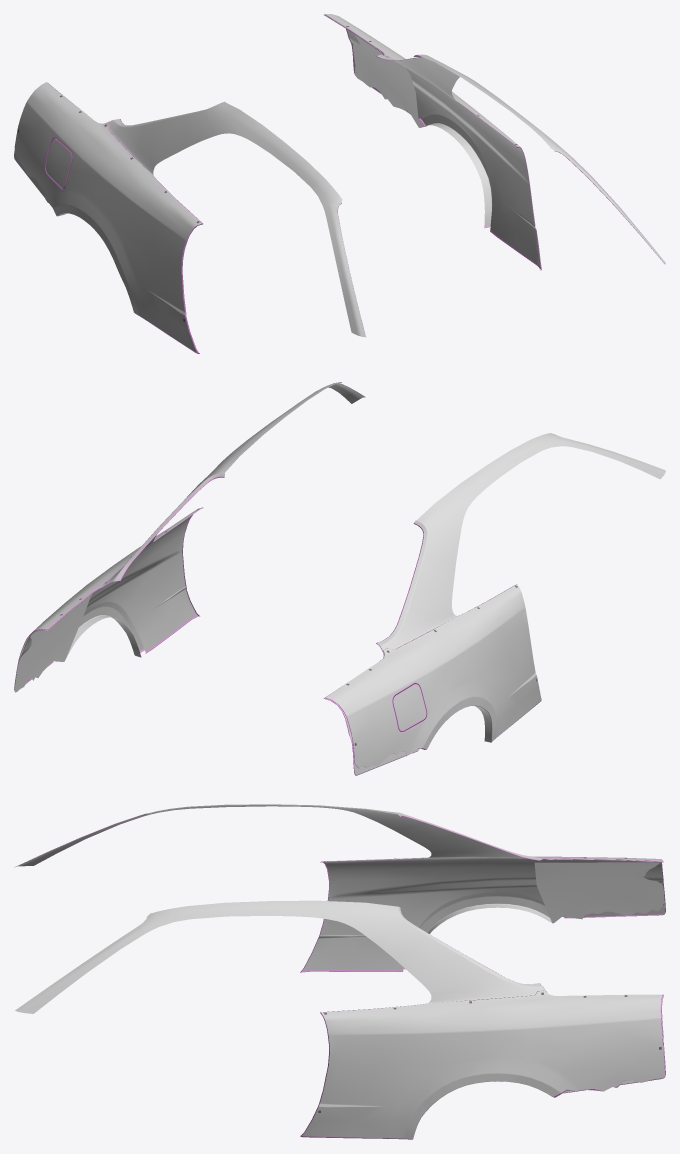
Rendered from Car_Nissan_SkylineGTRVspecR34_1999_FendersR_SetE_AltA.fbx.
3 renders of one model, top to bottom at view 1: azimuth 30°, elevation 25°; view 2: azimuth 150°, elevation 25°; view 3: azimuth 270°, elevation 25°, orthographic.
Visible parts, largest first — view 1: FendersR 6; view 2: FendersR 6; view 3: FendersR 6.
Part boxes in pixels (left/top/right/bottom): FendersR 6: left=14, top=14, right=665, bottom=353; FendersR 6: left=14, top=382, right=665, bottom=775; FendersR 6: left=14, top=804, right=665, bottom=1139.
Bounding box in the file's own units: 1.8 × 0.9508 × 2.79.
